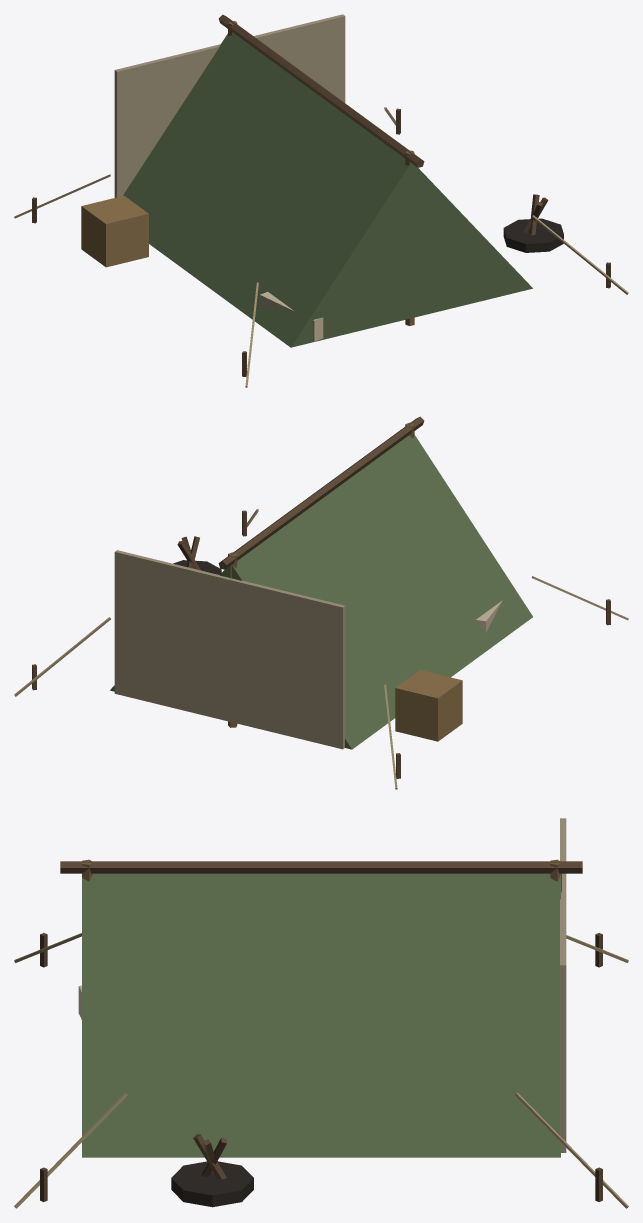
The model's file is S_AFrame.glb.
3 views of the same model, one above another, from view 1: azimuth 30°, elevation 25°; view 2: azimuth 150°, elevation 25°; view 3: azimuth 270°, elevation 25° (orthographic). The views are drawn at different scales.
Visible parts, largest first — view 1: S_AFrame; view 2: S_AFrame; view 3: S_AFrame.
Part boxes in pixels (x1,y1,x2,y2): S_AFrame: (14,14,628,387); S_AFrame: (14,416,628,789); S_AFrame: (14,818,628,1208).
Bounding box in the file's own units: 5.47 × 2.31 × 5.65.
